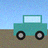vehicle: (14, 15, 47, 40)
